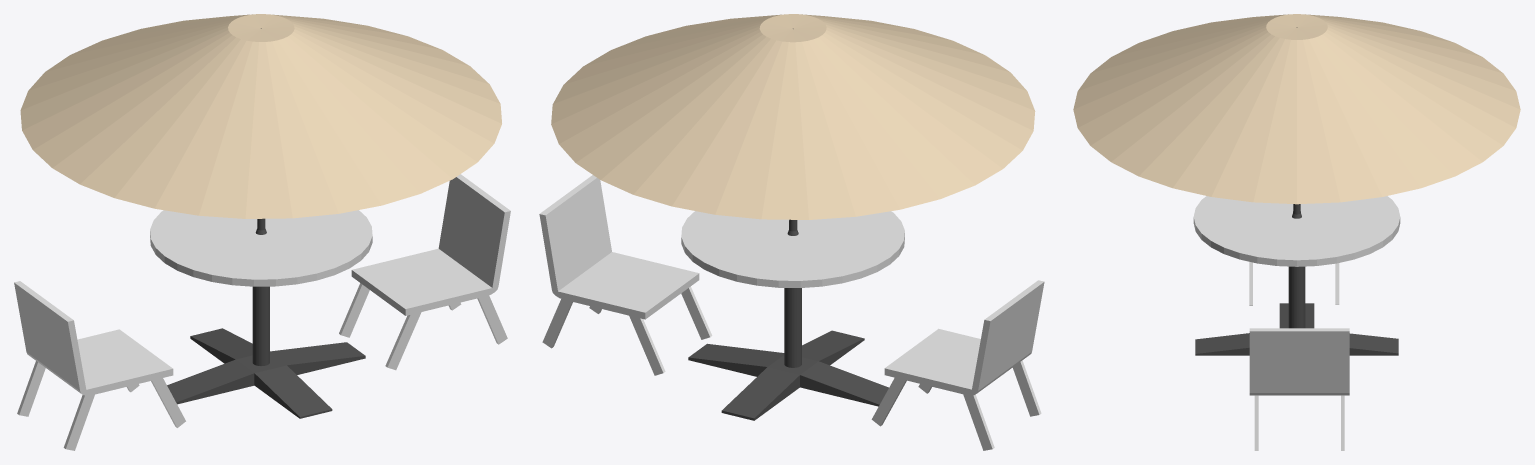
File: OUTDOORTABLE.fbx
3 renders of one model, left to right at view 1: azimuth 30°, elevation 25°; view 2: azimuth 150°, elevation 25°; view 3: azimuth 270°, elevation 25°, orthographic. The views are drawn at different scales.
Parts seen in each view (by area): view 1: Cube, Cube.001, Cube.005; view 2: Cube, Cube.001, Cube.005; view 3: Cube, Cube.001.
Boxes of the visible parts, left/top/right/bottom form: Cube: left=20, top=14, right=501, bottom=418; Cube.001: left=339, top=174, right=510, bottom=370; Cube.005: left=14, top=281, right=185, bottom=450; Cube: left=551, top=14, right=1035, bottom=420; Cube.001: left=539, top=175, right=712, bottom=375; Cube.005: left=871, top=280, right=1044, bottom=450; Cube: left=1073, top=14, right=1520, bottom=355; Cube.001: left=1249, top=328, right=1349, bottom=450.
Size of the model in its own units: 1538 by 1168 by 1441.
